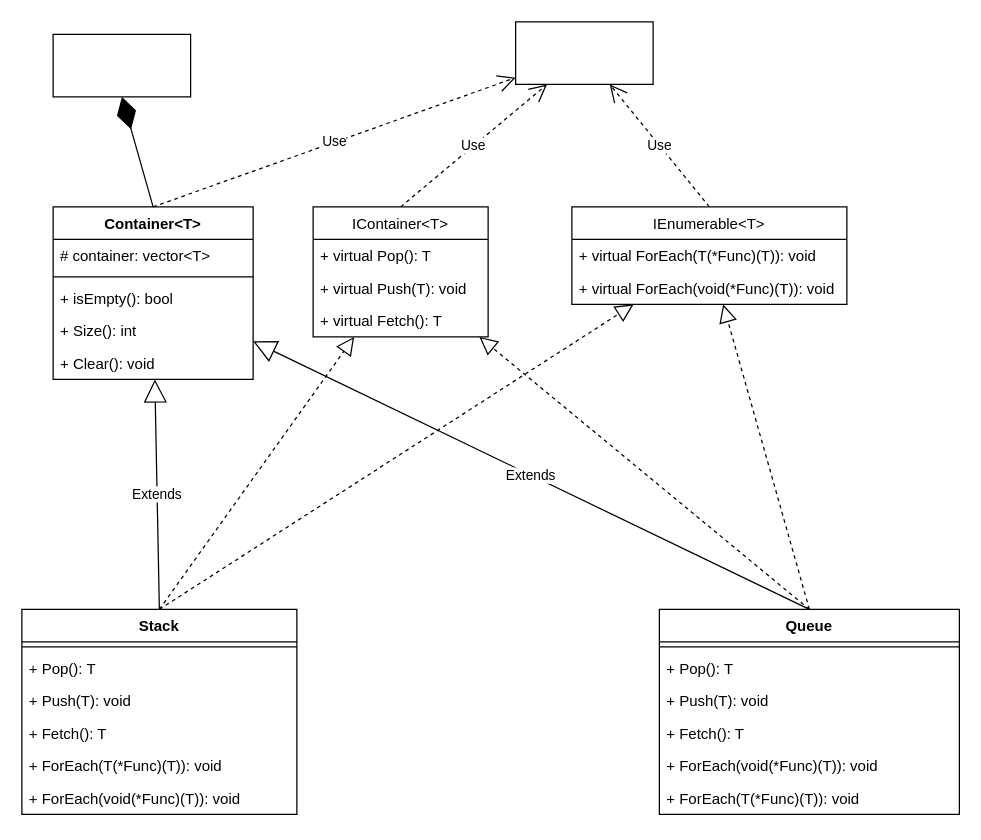
Image size: 981x840. Some labels were removed from this diagram. The box of each missing label's shape, as (x1, y1, x2, y2) in pixels:
vector: (52, 33, 191, 97)
«template» T: (514, 21, 653, 84)
